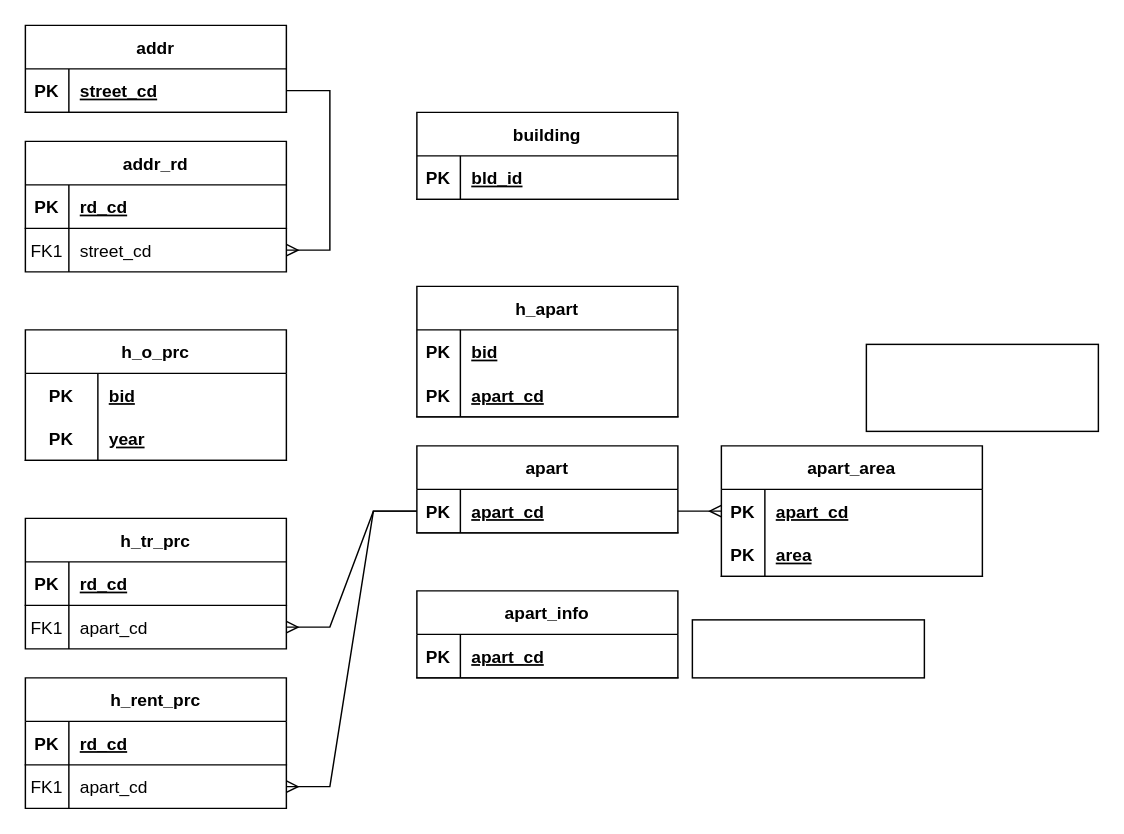
This 1124x834 diagram has some shape labels left out. The shapes that lost their labels are listed below. From the top down, each one's centre as x and y in pixels, then its label:
pixel 981 387: 공동주택 : 25만건 공동주택 면적 : 80만건
pixel 807 648: 브랜드, 사용자 입력정보
